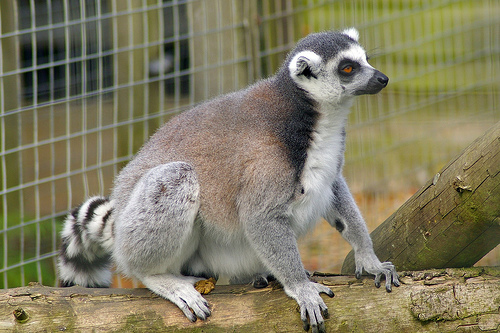cat: (56, 28, 399, 332)
